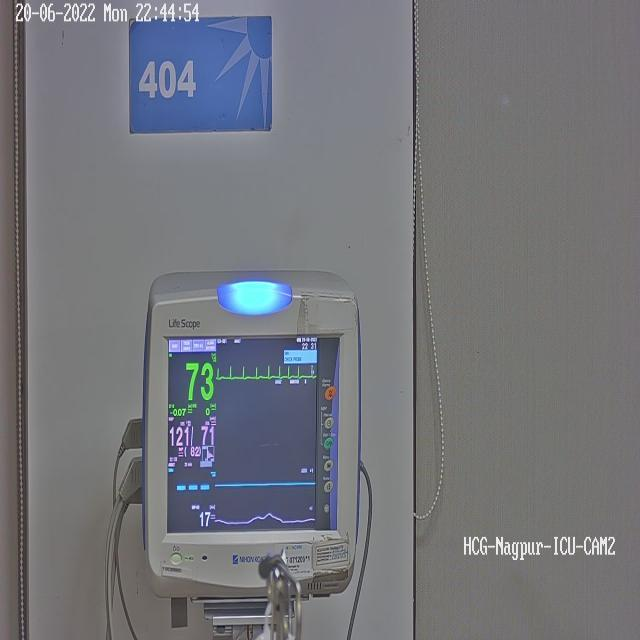Monitor: (140, 268, 362, 602)
